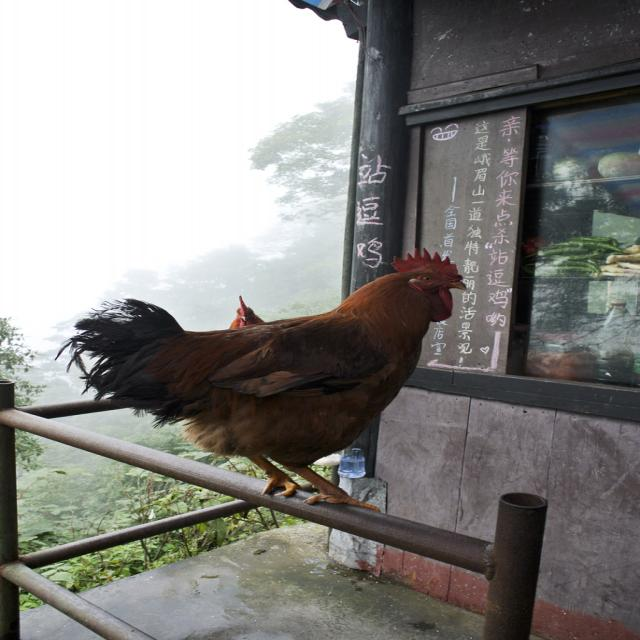Chicken: (44, 250, 473, 511)
